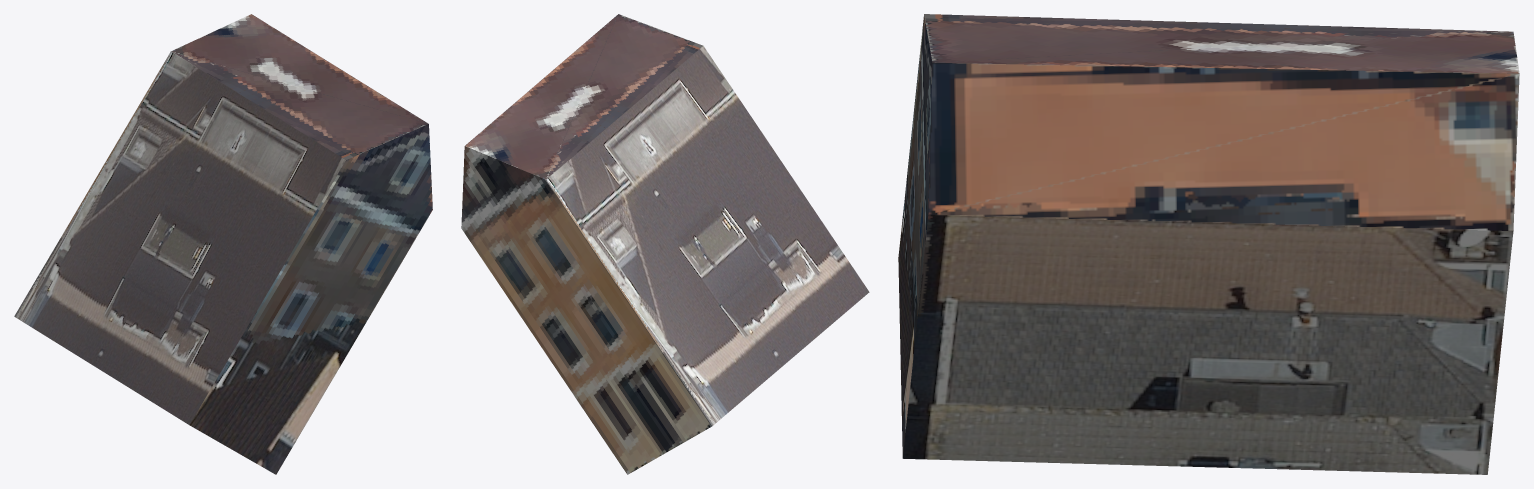
3 renders of one model, left to right at view 1: azimuth 30°, elevation 25°; view 2: azimuth 150°, elevation 25°; view 3: azimuth 270°, elevation 25°, orthographic. The views are drawn at different scales.
Parts seen in each view (by area): view 1: BAG_0599100000688734 (×2); view 2: BAG_0599100000688734 (×3); view 3: BAG_0599100000688734 (×2).
Boxes of the visible parts, <box> form: BAG_0599100000688734 (×2): <box>14,14,432,474</box>; BAG_0599100000688734 (×3): <box>461,14,869,474</box>; BAG_0599100000688734 (×2): <box>898,14,1519,474</box>.
Size of the model in its own units: 10.79 by 12.68 by 12.85.
1 material, 1 textured.
